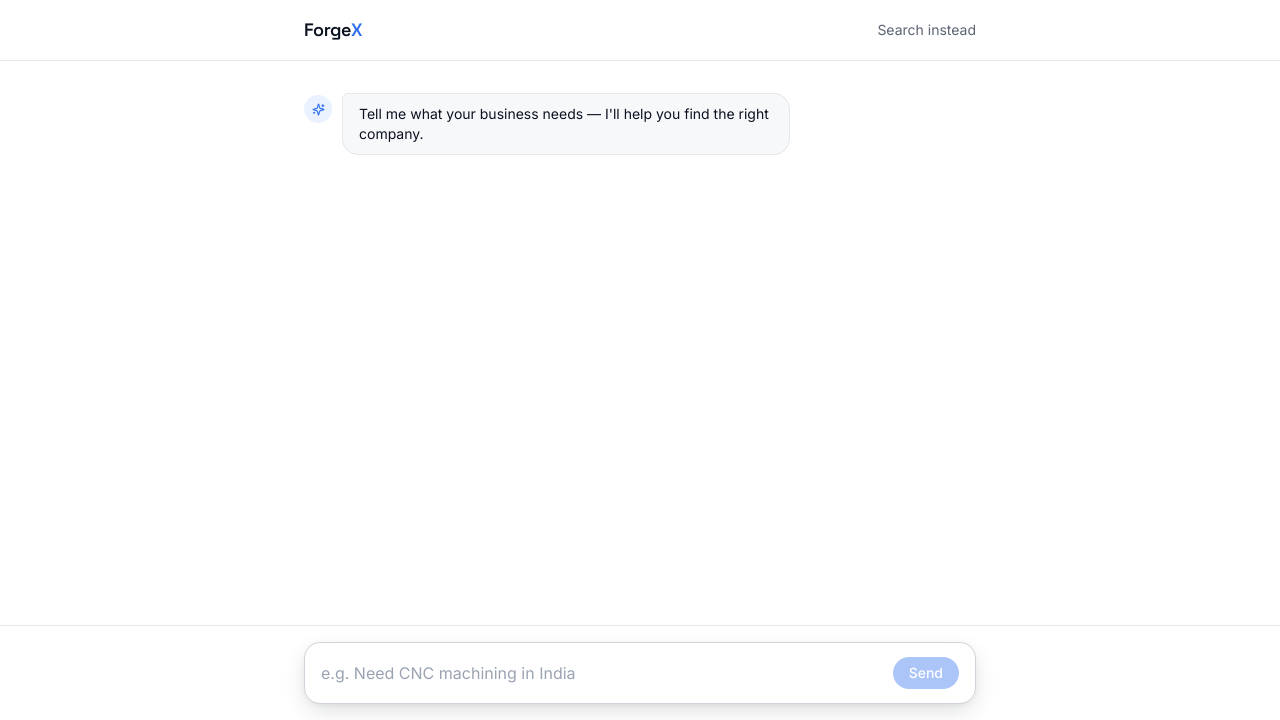
Consult composer (ForgeX Product Audit P1 #1) › sends on a plain Enter
This screenshot has width=1280, height=720.
Type "I need custom parts" into the text box named "Your message".
click(601, 673); type("I need custom parts")  # box [321,655,881,691]
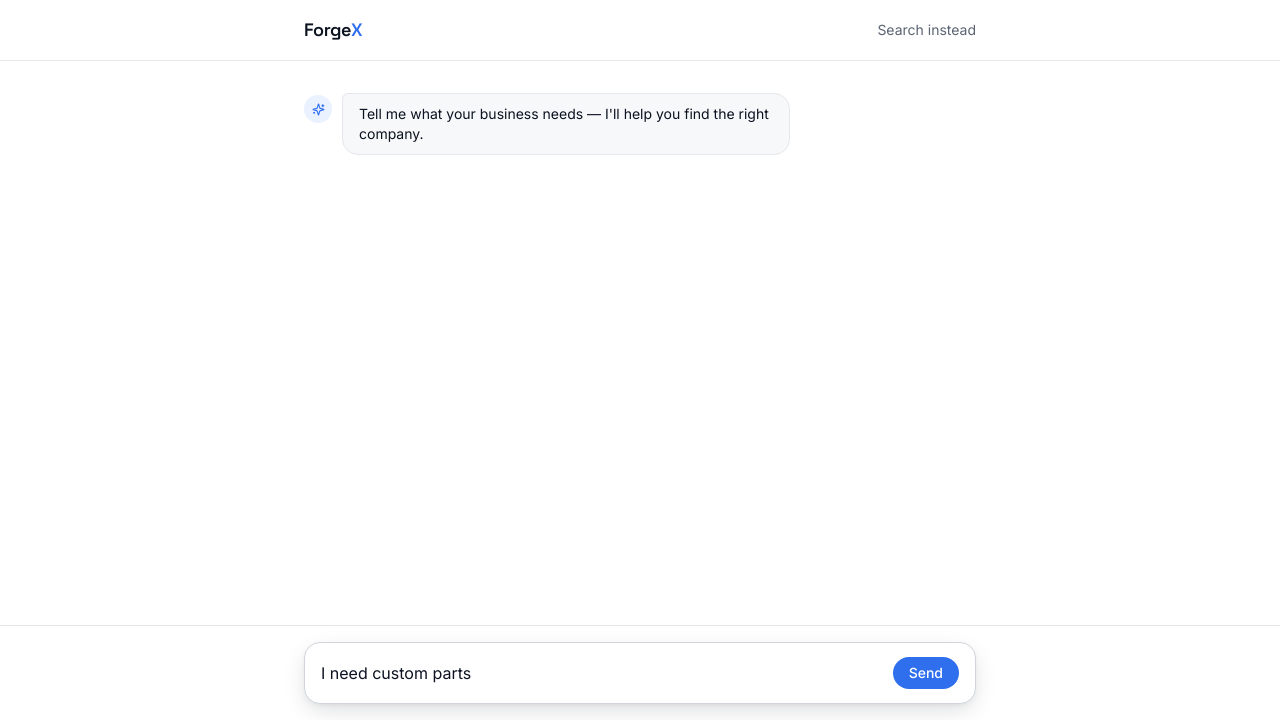
Press Enter in the text box named "Your message", box [321,655,881,691]
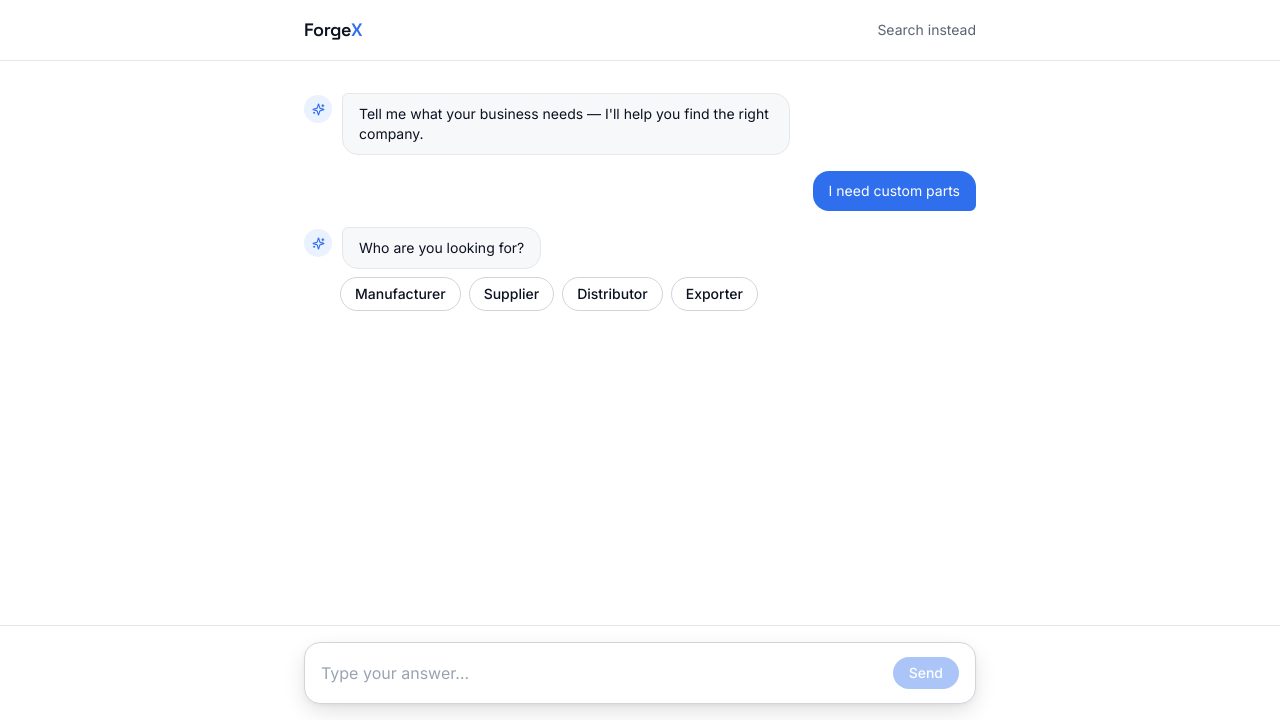
expect the text "I need custom parts" is shown: met, box [813,171,976,211]
